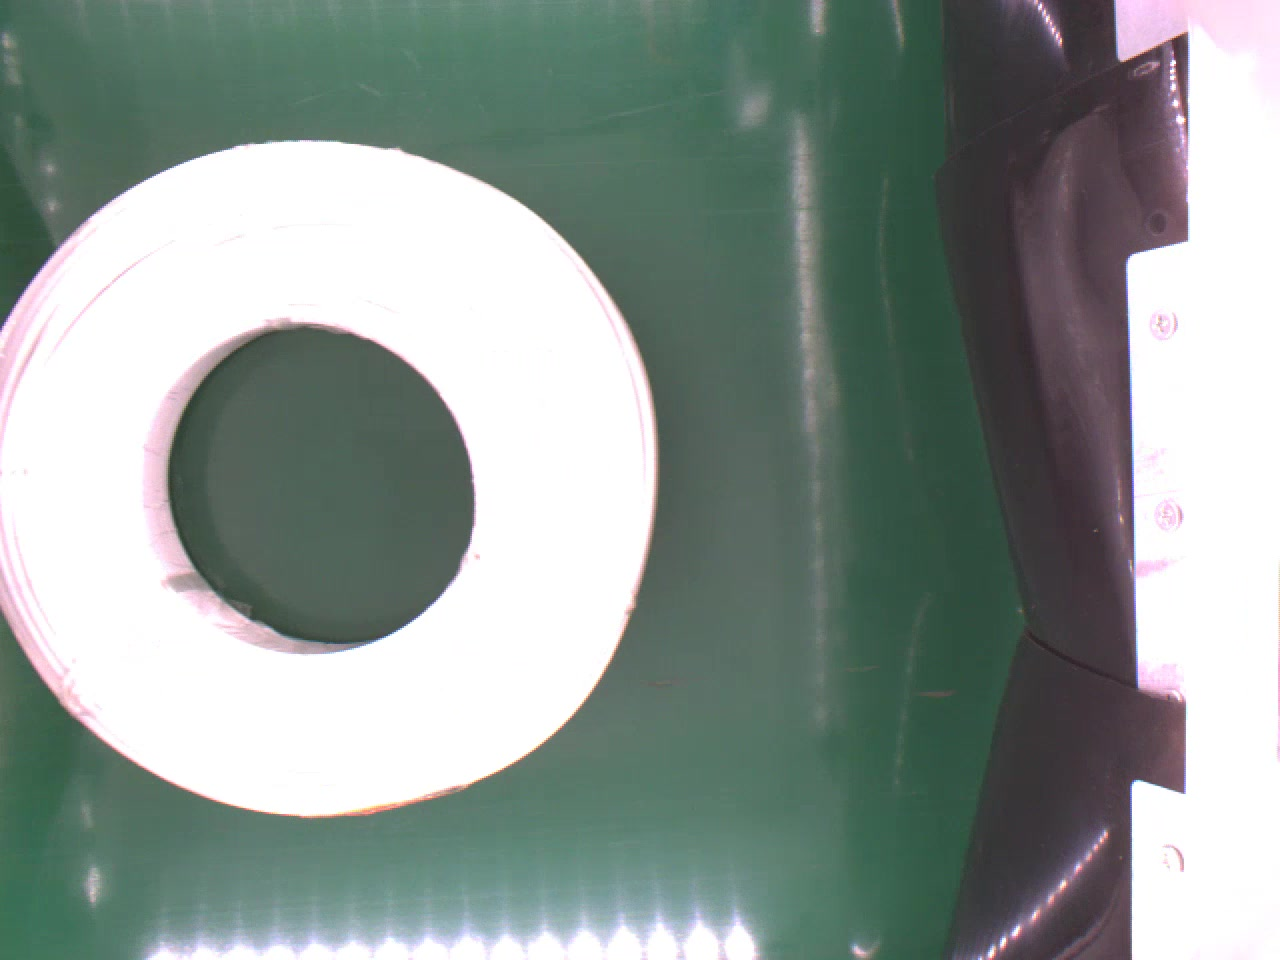white: (0, 139, 659, 820)
